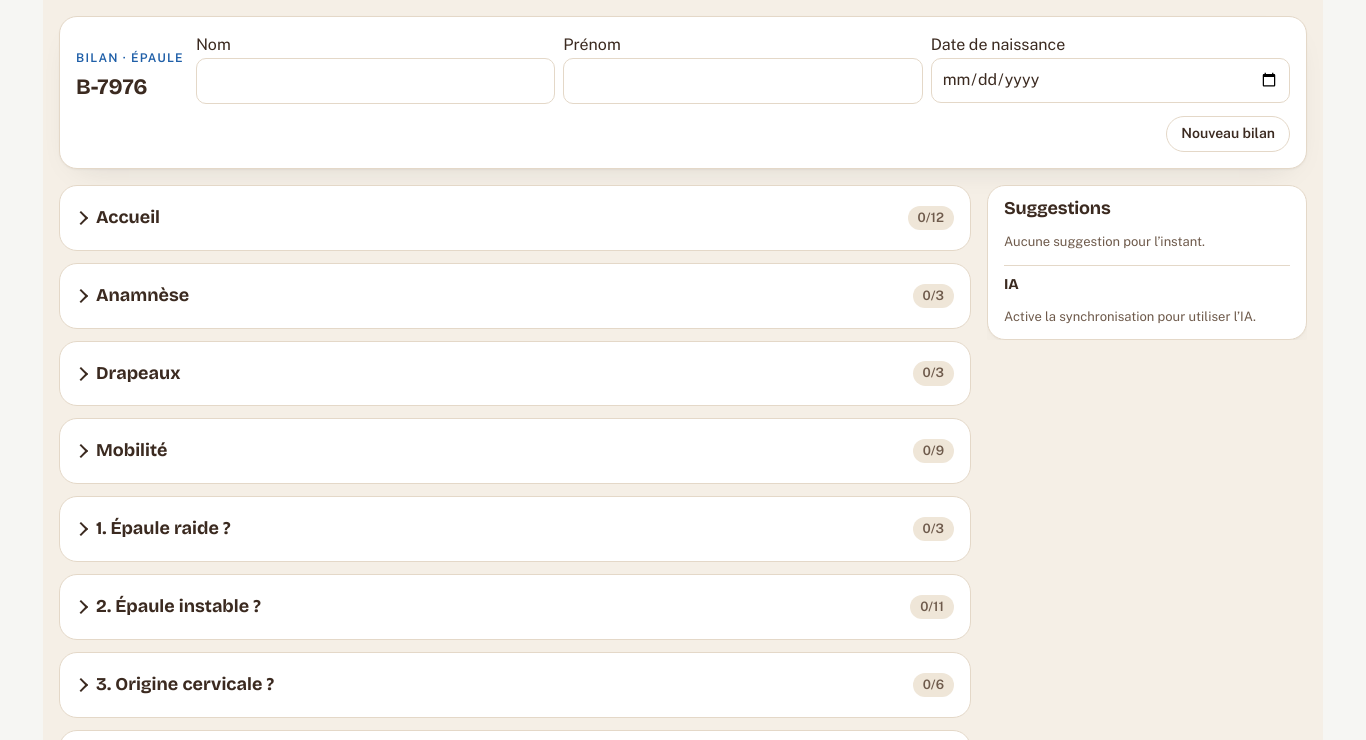
Test case: section Accueil (physio) › premier onglet, statut, Passer
expect the text with class "bilan-sec-title" reads "Accueil": met, box [96, 206, 160, 228]
Click the heading "Accueil 0/12": (128, 217) [96, 206, 954, 230]
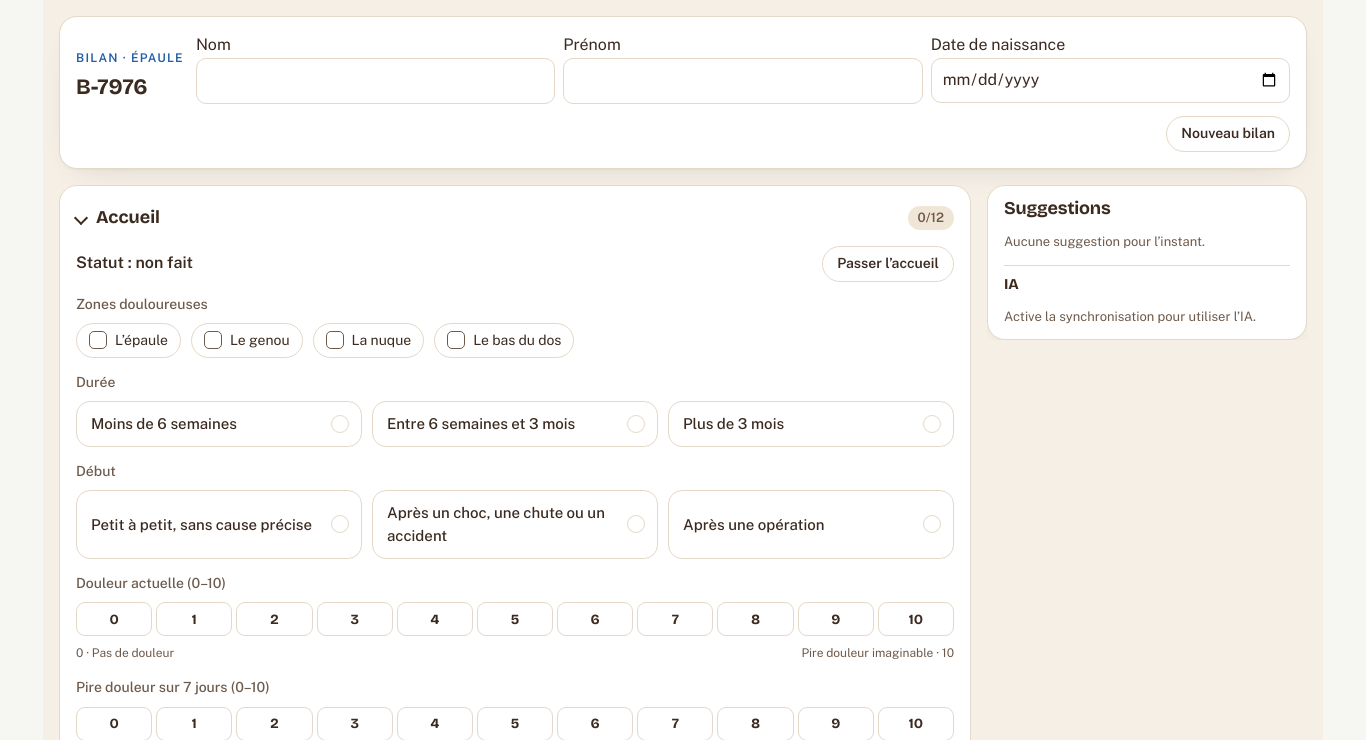
expect the text "Statut : non fait" is shown: met, box [76, 251, 193, 276]
Click the button "Passer l’accueil": (888, 264) [822, 246, 954, 282]
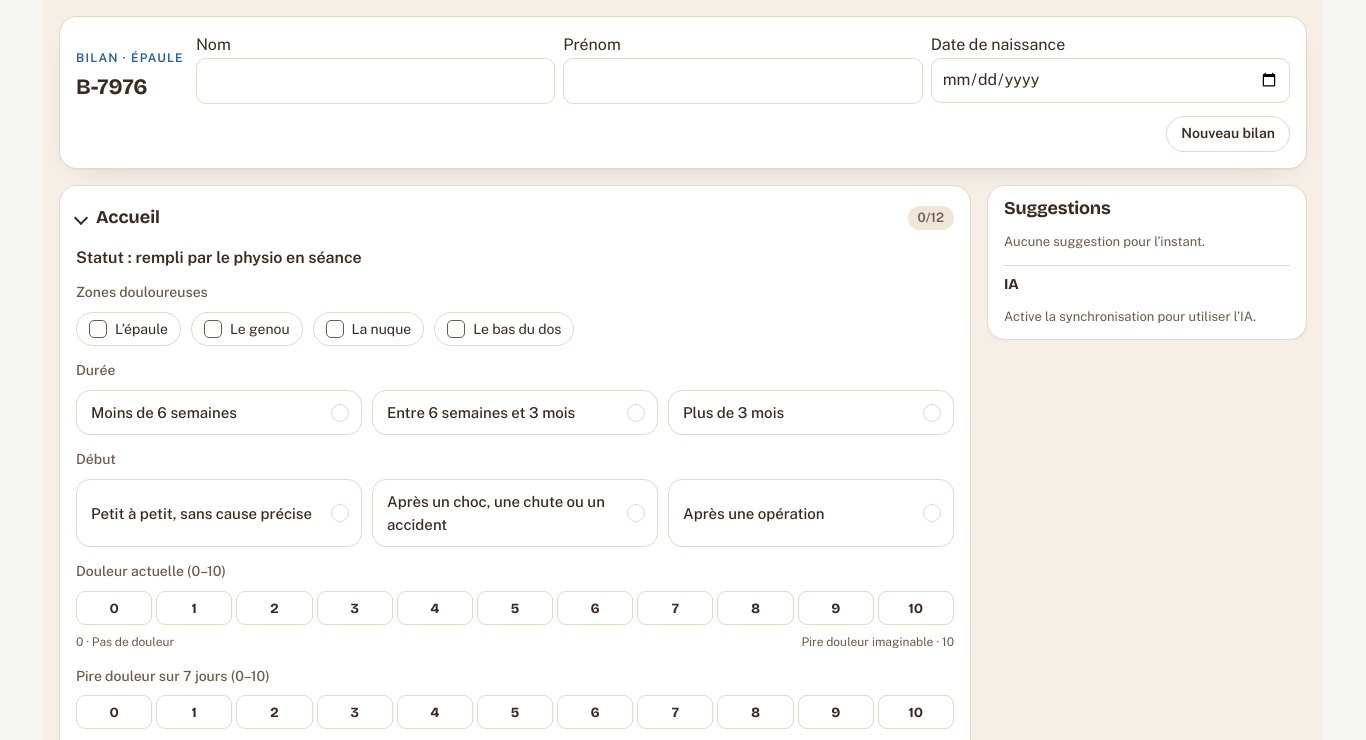
expect the text "Statut : rempli par le physio en séance" is shown: met, box [76, 246, 362, 270]
expect the button "Passer l’accueil" is gone: met
